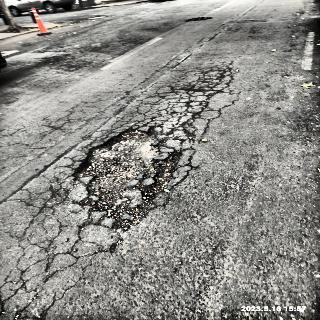alligator-crack: (0, 173, 116, 318), (141, 59, 248, 140)
pothole: (77, 121, 188, 232)
